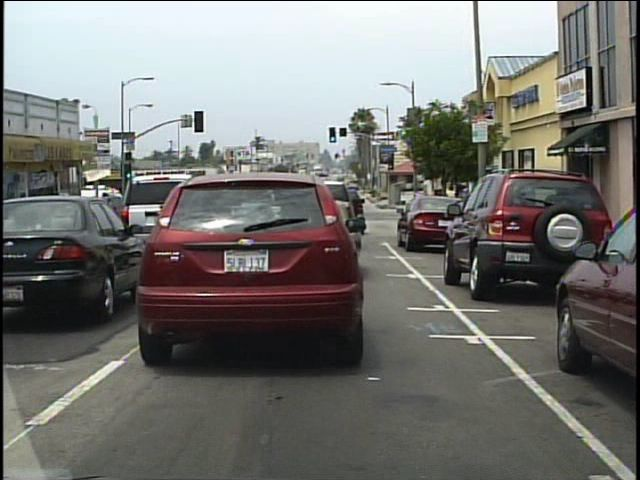person: (440, 190, 452, 227), (432, 192, 443, 227), (457, 187, 473, 202)
